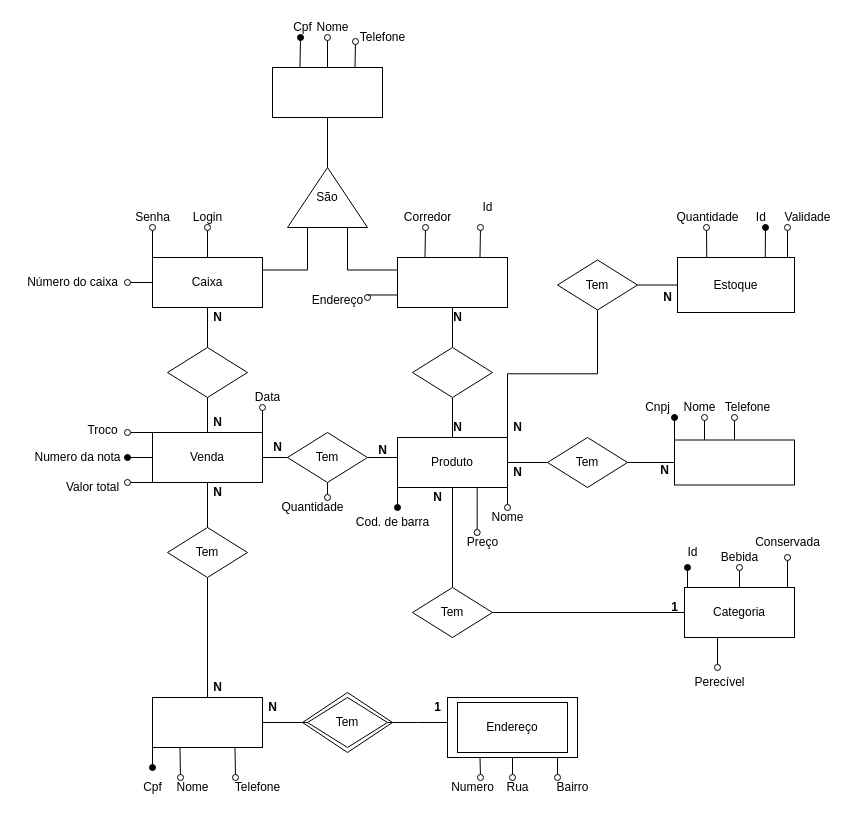
This 854x814 diagram has some shape labels left out. Each missing label, with the centre of its shape:
Cliente: point 207,722
Fornecedor: point 734,462
Fucionário: point 327,92
Realiza: point 207,372
Repositor: point 452,282
Repõe: point 452,372
